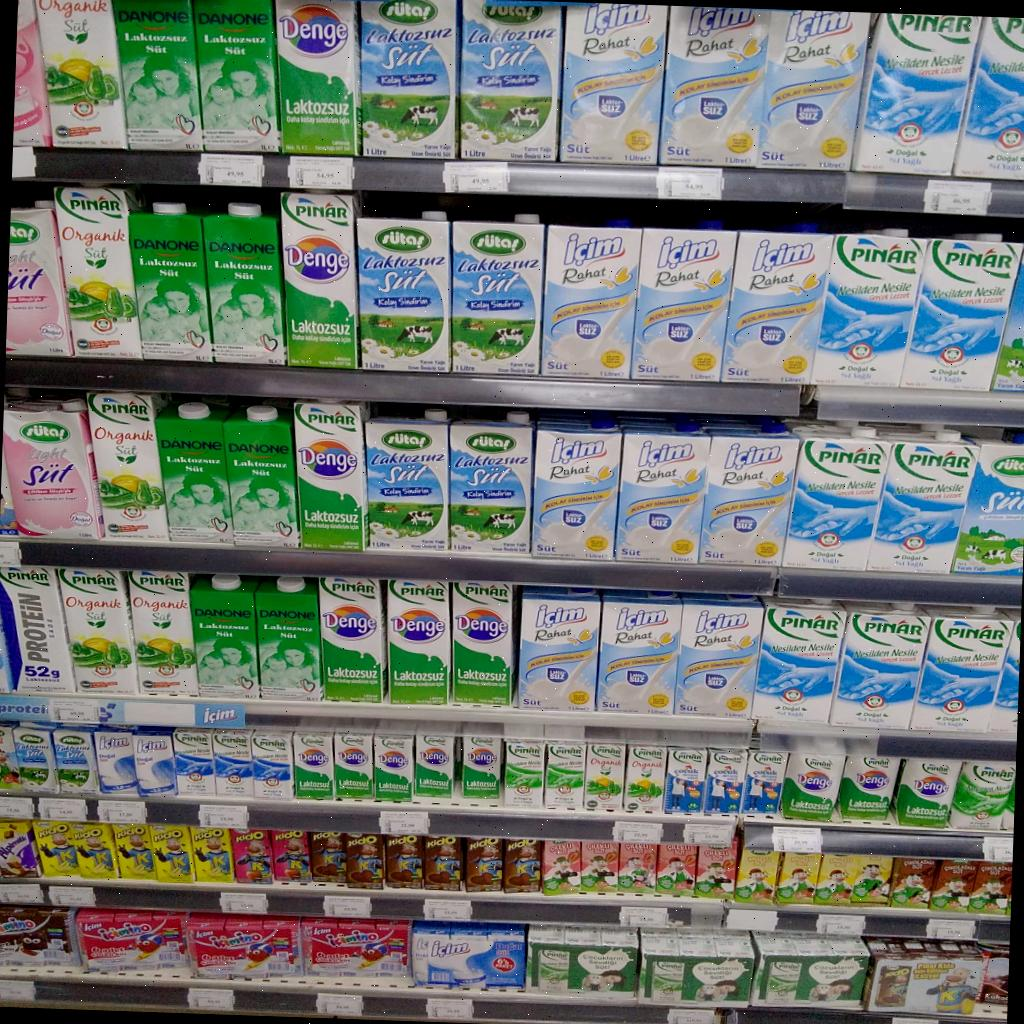price_tag: (924, 180, 991, 215), (288, 157, 355, 190), (657, 167, 723, 199), (199, 154, 264, 186), (443, 162, 509, 193), (772, 827, 822, 854), (199, 804, 248, 830), (50, 699, 100, 724), (726, 908, 778, 932), (39, 797, 88, 822), (379, 811, 430, 835), (683, 824, 734, 847), (98, 800, 147, 823), (613, 821, 662, 844), (926, 918, 977, 940), (424, 898, 472, 921), (323, 895, 372, 917), (220, 892, 268, 914), (316, 993, 363, 1015), (188, 988, 235, 1010), (619, 906, 668, 927), (817, 914, 866, 935), (426, 998, 473, 1019), (49, 886, 96, 906), (0, 884, 44, 904), (0, 979, 36, 1001), (982, 836, 1012, 862), (0, 798, 34, 819), (667, 1009, 714, 1023), (0, 541, 21, 566), (891, 1017, 939, 1023)
product: (853, 13, 979, 175), (901, 235, 1019, 390), (757, 9, 869, 172), (812, 229, 927, 387), (660, 5, 772, 166), (559, 2, 667, 163), (723, 230, 831, 383), (459, 0, 561, 159), (632, 228, 737, 382), (782, 427, 890, 570), (867, 431, 976, 571), (361, 0, 457, 157), (55, 185, 142, 357), (451, 215, 544, 375), (357, 212, 450, 372), (698, 422, 798, 564), (2, 398, 103, 538), (544, 226, 640, 372), (33, 0, 126, 147), (615, 420, 710, 563), (112, 0, 202, 150), (129, 202, 213, 361), (203, 203, 285, 364), (282, 192, 357, 367), (194, 0, 280, 152), (276, 0, 360, 155), (532, 418, 621, 560), (828, 605, 930, 728), (909, 606, 1009, 731), (88, 392, 169, 541), (448, 413, 533, 553), (751, 598, 845, 723), (953, 16, 1024, 179), (366, 410, 449, 549), (293, 401, 367, 551), (156, 402, 232, 543), (224, 404, 299, 546), (676, 594, 762, 717), (952, 433, 1024, 576), (597, 591, 681, 713), (57, 568, 138, 693), (5, 208, 73, 356), (518, 587, 599, 710), (0, 565, 76, 694), (126, 570, 198, 693), (866, 939, 982, 1015), (638, 930, 753, 1006), (751, 933, 869, 1007), (190, 574, 259, 700), (254, 576, 323, 700), (318, 577, 385, 701), (385, 579, 451, 703), (412, 920, 526, 989), (452, 582, 515, 705), (185, 914, 302, 978), (528, 927, 638, 995), (75, 909, 187, 972), (300, 917, 410, 977), (13, 0, 51, 145), (892, 758, 960, 827), (0, 905, 78, 964), (949, 761, 1015, 827), (780, 752, 844, 820), (988, 609, 1020, 733), (837, 755, 897, 819), (13, 724, 59, 793), (51, 726, 98, 793), (742, 750, 788, 814), (94, 728, 138, 794), (212, 729, 254, 798), (252, 730, 294, 799), (172, 728, 215, 795), (663, 747, 706, 813), (704, 749, 747, 814), (134, 729, 177, 794), (544, 741, 585, 809), (503, 739, 544, 807), (624, 745, 665, 812), (293, 732, 334, 799), (32, 820, 80, 876), (148, 826, 194, 883), (461, 735, 500, 802), (585, 743, 625, 808), (333, 734, 373, 799), (72, 822, 118, 878), (734, 848, 780, 904), (374, 736, 412, 802), (929, 859, 976, 912), (695, 839, 736, 899), (416, 734, 454, 798), (191, 827, 234, 883), (0, 818, 40, 877), (114, 824, 156, 880), (775, 852, 820, 904), (889, 858, 936, 907), (968, 862, 1012, 914), (813, 853, 855, 906), (848, 856, 892, 905), (655, 844, 697, 895), (345, 834, 384, 888), (423, 836, 462, 890), (232, 830, 271, 883), (502, 839, 541, 892), (464, 838, 502, 892), (542, 841, 580, 895), (617, 842, 657, 893), (272, 830, 310, 883), (386, 835, 423, 888), (580, 841, 616, 893), (310, 832, 344, 882), (0, 724, 21, 789), (408, 846, 414, 851)
